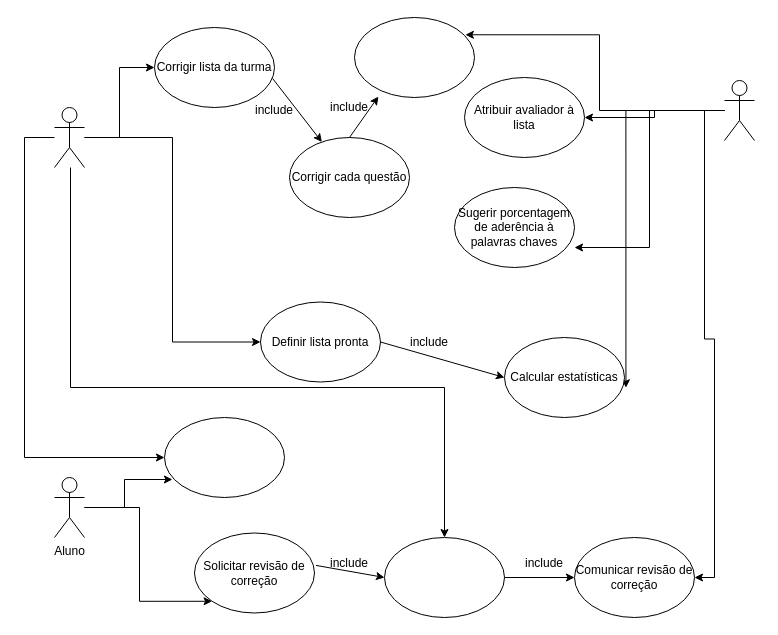
Image size: 778x635. Some labels were removed from this diagram. The box of each missing label's shape, as (x1, y1, x2, y2) in pixels:
Calcular pontos da questão: (354, 16, 474, 98)
Professor/Monitor: (54, 106, 84, 168)
Realizar revisão de correção: (384, 536, 504, 618)
Sistema: (724, 80, 754, 140)
Visualizar estatísticas: (164, 416, 284, 498)
